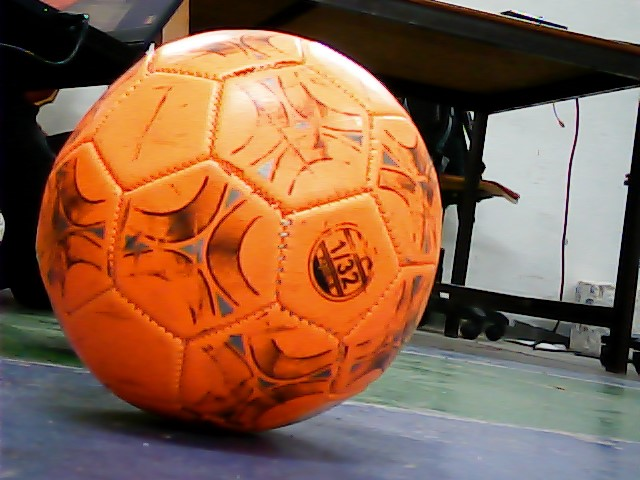Orange_ball: (40, 29, 444, 449)
